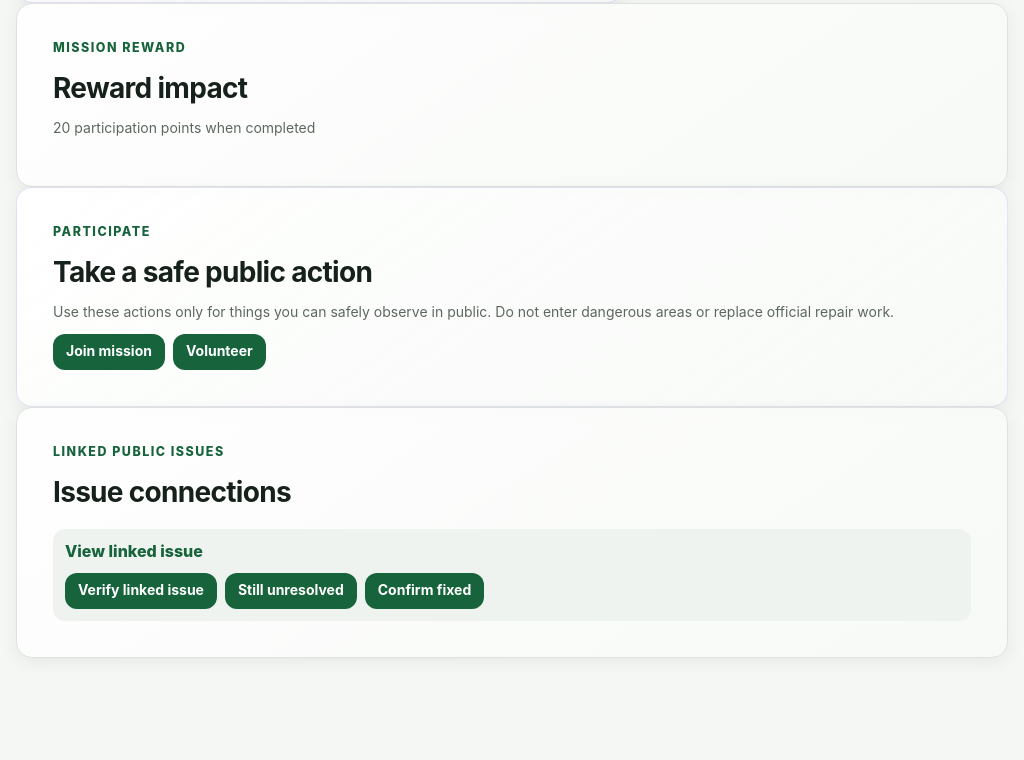
Scenario: Community Missions › submits mission participation actions and updates progress
(page scrolled)
Click the button "Verify linked issue": (141, 591) [65,573,217,609]
(page scrolled)
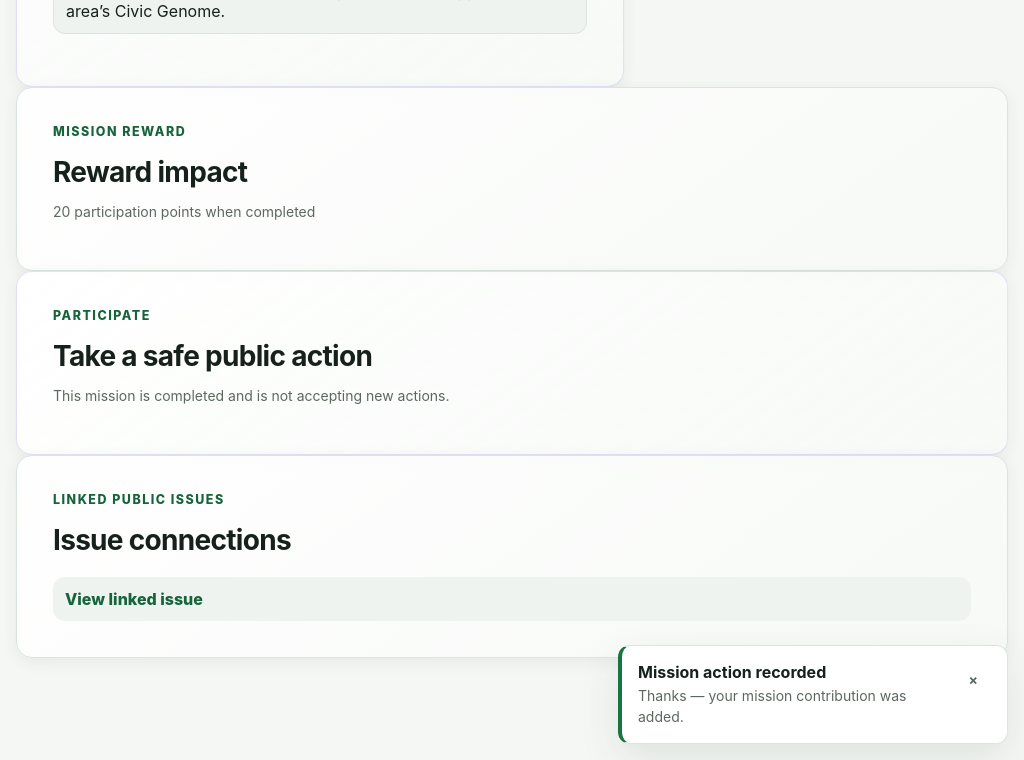
Result: the text "Mission action recorded" is shown at [638,662,826,682]
Result: the text "This mission is completed and is not accepting new actions." is shown at [53,387,450,404]
Result: the button "Verify linked issue" is gone
